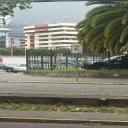NoEstacionar: (70, 43, 86, 54)
